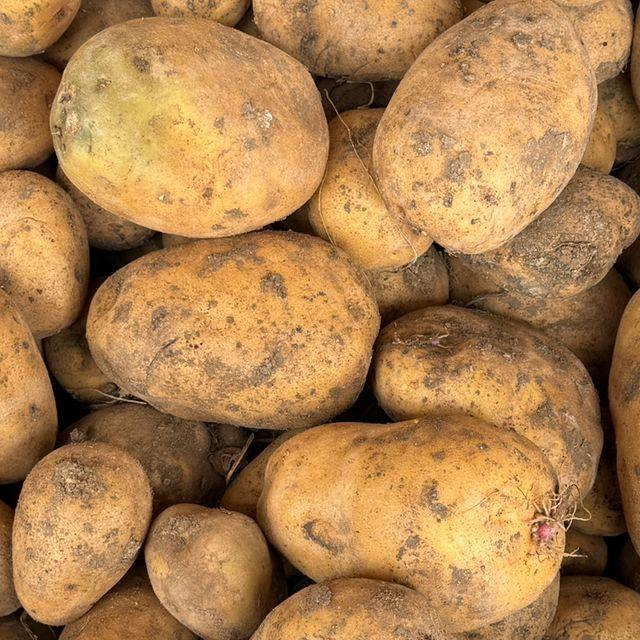potato: (45, 199, 412, 436), (38, 0, 345, 262), (361, 0, 618, 269), (561, 226, 640, 616)
